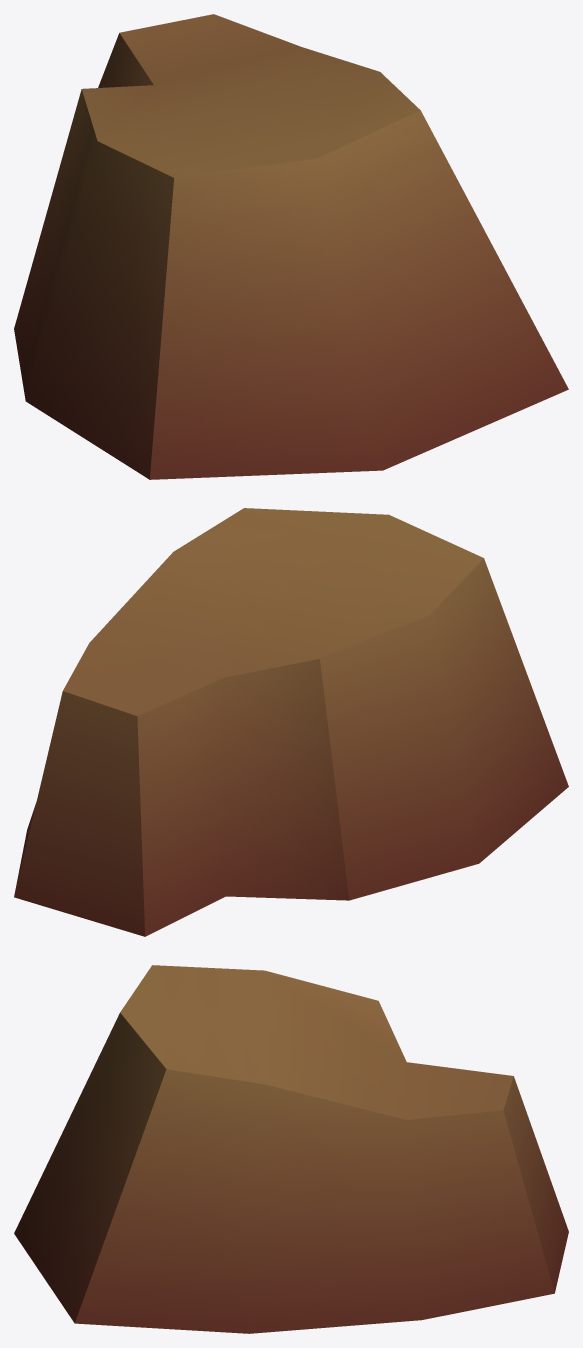
File: Mountain_small.007.fbx
3 renders of one model, top to bottom at view 1: azimuth 30°, elevation 25°; view 2: azimuth 150°, elevation 25°; view 3: azimuth 270°, elevation 25°, orthographic. The views are drawn at different scales.
Visible parts, largest first — view 1: Mountain_small.007; view 2: Mountain_small.007; view 3: Mountain_small.007.
Boxes of the visible parts, x1,y1,x2,y2 form: Mountain_small.007: (14, 14, 568, 479); Mountain_small.007: (14, 508, 568, 936); Mountain_small.007: (14, 965, 568, 1333).
Size of the model in its own units: 19.44 by 11.08 by 25.3.
